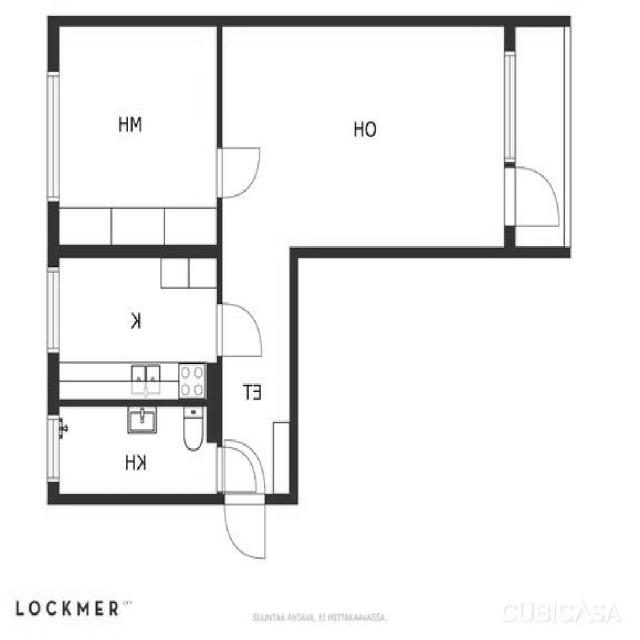door: (212, 298, 268, 362), (212, 138, 264, 202)
window: (39, 67, 66, 206), (41, 257, 65, 362), (501, 43, 521, 163), (41, 408, 66, 491)
zone: (222, 21, 508, 249), (48, 19, 220, 252), (54, 253, 220, 400), (220, 248, 295, 502), (56, 401, 211, 503), (221, 437, 272, 567), (499, 161, 566, 232)
